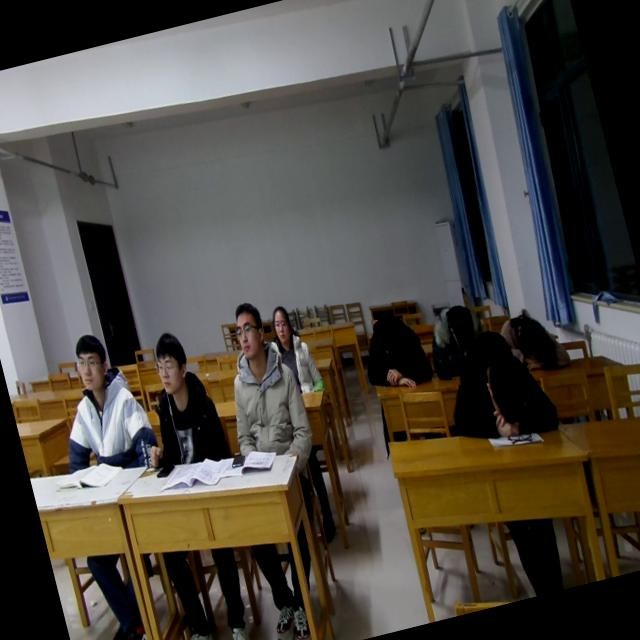bow: (434, 316, 564, 454), (352, 301, 438, 399), (418, 294, 495, 382), (494, 297, 574, 381)
lookup: (141, 322, 195, 400), (223, 292, 273, 366), (65, 328, 115, 398), (266, 299, 298, 349)
sit: (39, 321, 163, 482), (203, 293, 316, 461), (120, 321, 232, 474), (263, 298, 326, 402)
